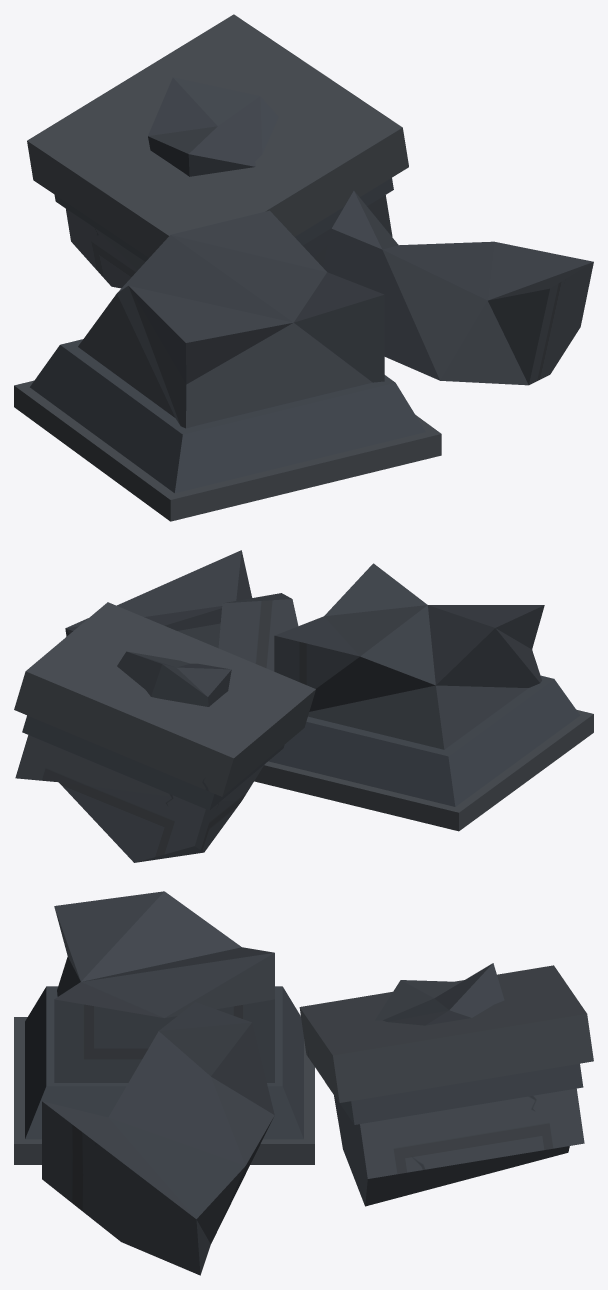
The model's file is Pillar 04.fbx.
3 renders of one model, top to bottom at view 1: azimuth 30°, elevation 25°; view 2: azimuth 150°, elevation 25°; view 3: azimuth 270°, elevation 25°, orthographic. The views are drawn at different scales.
Parts seen in each view (by area): view 1: Pillar_04; view 2: Pillar_04; view 3: Pillar_04.
Part boxes in pixels (bbox=[...]): Pillar_04: bbox=[14, 14, 593, 521]; Pillar_04: bbox=[14, 550, 593, 862]; Pillar_04: bbox=[14, 891, 593, 1275].
Size of the model in its own units: 184 by 68.04 by 185.
